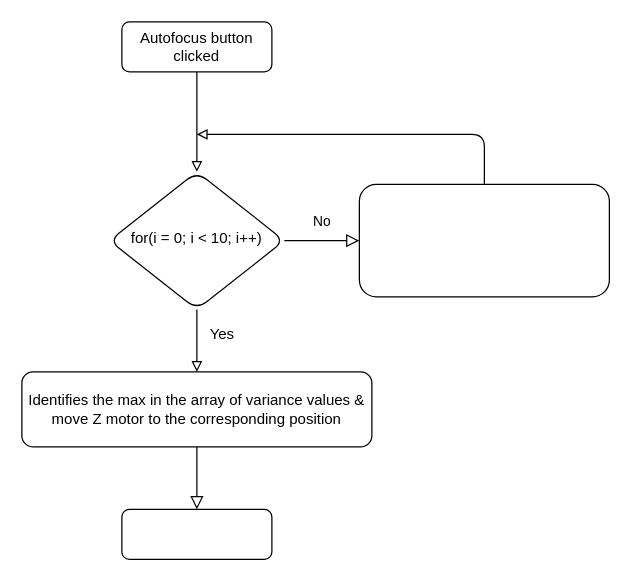
This 631x581 diagram has some shape labels left out. Each missing label, with the centre of its shape:
Autofocus Achieved: point (196, 533)
Move Z motor by 10 steps Store Z value and Variance of the image: point (483, 240)
